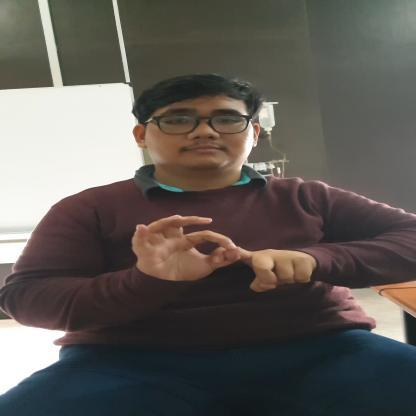Q: (129, 212, 314, 298)
